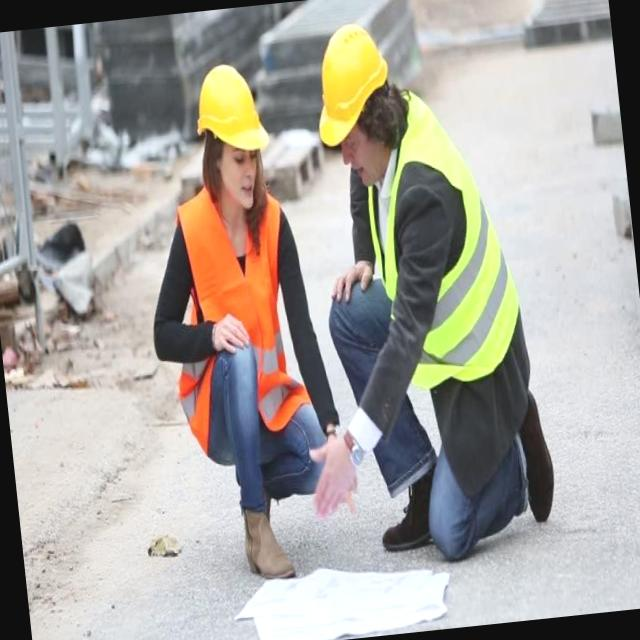helmet: (310, 25, 396, 156), (187, 56, 271, 170)
vest: (354, 141, 530, 393), (165, 176, 313, 449)
